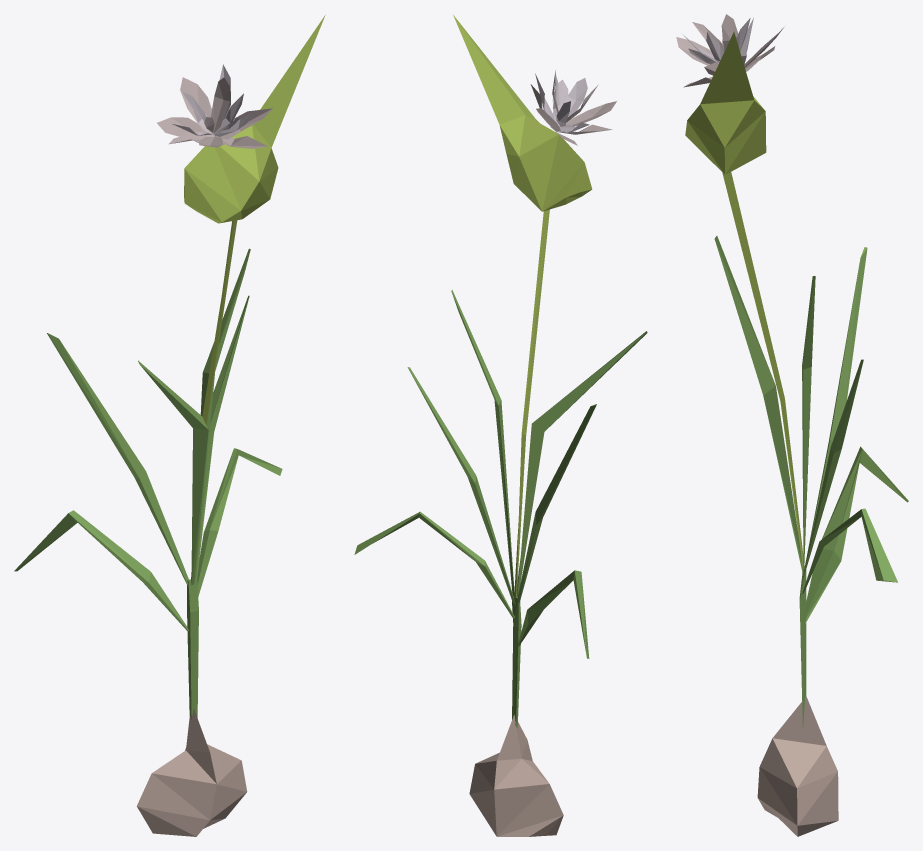
File: Garlic_4.fbx
The picture shows the model from 3 angles, left to right: view 1: azimuth 30°, elevation 25°; view 2: azimuth 150°, elevation 25°; view 3: azimuth 270°, elevation 25°; orthographic projection. The views are drawn at different scales.
Visible parts, largest first — view 1: Garlic_4; view 2: Garlic_4; view 3: Garlic_4.
Part boxes in pixels (x1,y1,x2,y2): Garlic_4: (14,15,325,836); Garlic_4: (354,15,647,836); Garlic_4: (676,14,908,836).
Bounding box in the file's own units: 27.04 × 81.99 × 20.43.
